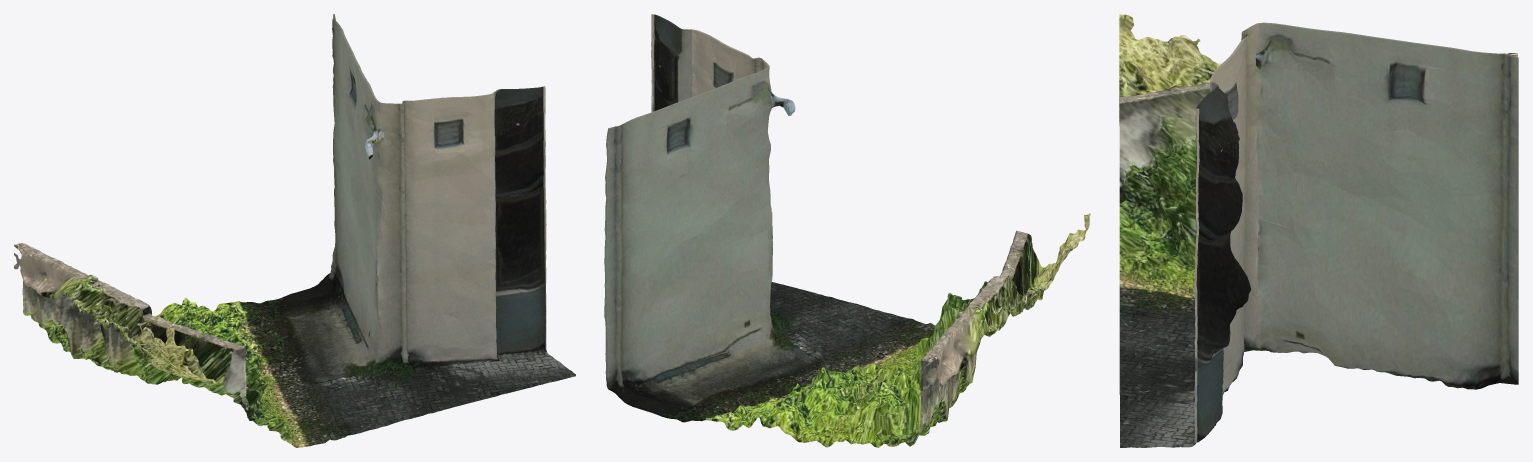
3 views of the same model, side by side, from view 1: azimuth 30°, elevation 25°; view 2: azimuth 150°, elevation 25°; view 3: azimuth 270°, elevation 25° (orthographic). The views are drawn at different scales.
Parts seen in each view (by area): view 1: node_91; view 2: node_91; view 3: node_91.
Part boxes in pixels (<box>): node_91: <box>14,14,575,447</box>; node_91: <box>604,14,1090,447</box>; node_91: <box>1119,14,1518,447</box>.
Size of the model in its own units: 7.93 by 5.17 by 5.36.
1 material, 1 textured.
